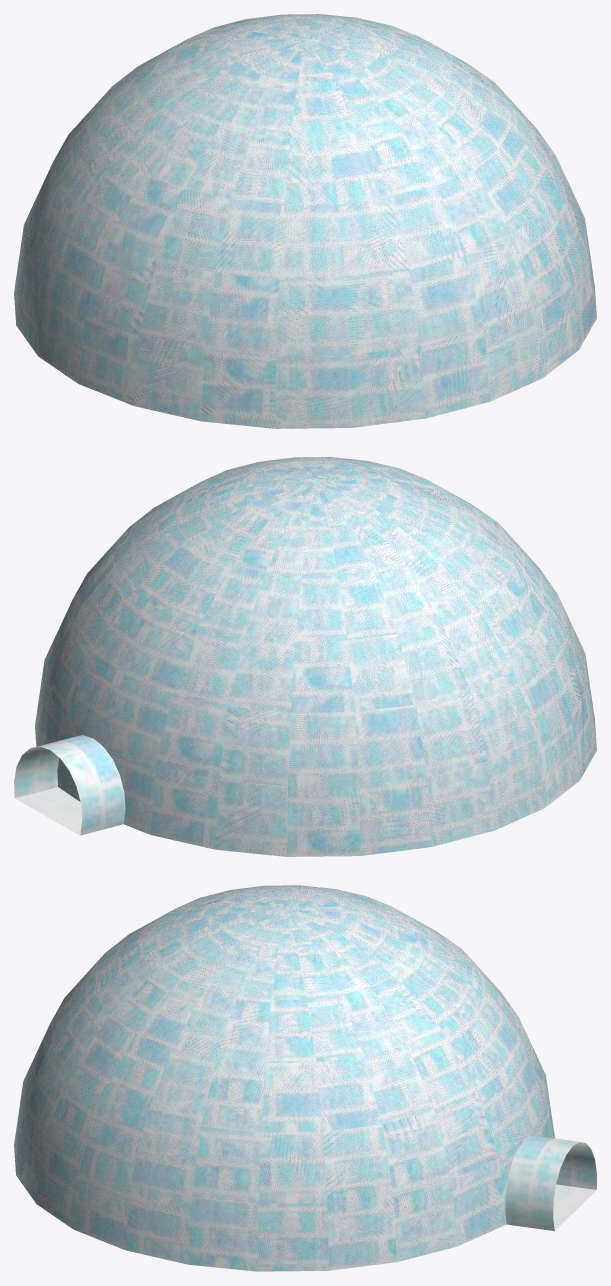
3 renders of one model, top to bottom at view 1: azimuth 30°, elevation 25°; view 2: azimuth 150°, elevation 25°; view 3: azimuth 270°, elevation 25°, orthographic. The views are drawn at different scales.
Visible parts, largest first — view 1: SketchUp; view 2: SketchUp (×3); view 3: SketchUp (×3).
Part boxes in pixels (x1,y1,x2,y2): SketchUp: (14,14,596,428); SketchUp (×3): (14,457,596,856); SketchUp (×3): (14,885,596,1271).
Bounding box in the file's own units: 241 × 259 × 121.
3 materials, 1 textured.
